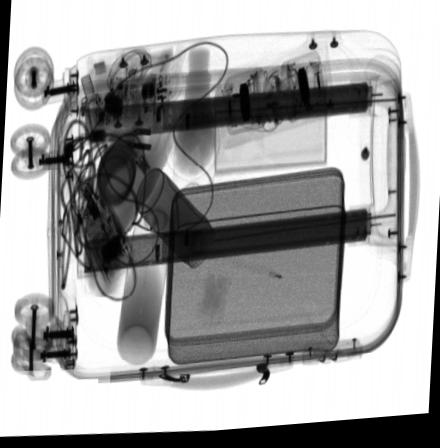Sprayer: (117, 178, 181, 370)
